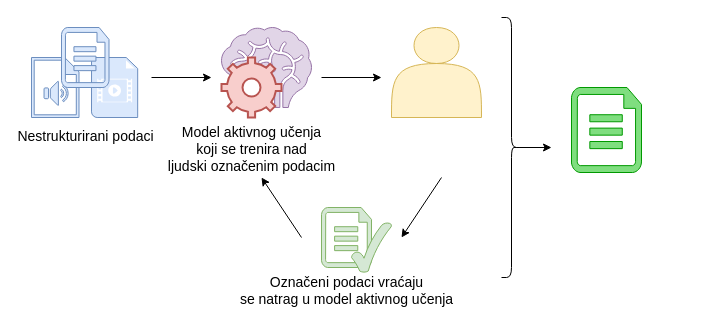
This 706x326 diagram has some shape labels left out. Here are the shapes that lost their labels. From the top down, the box of each, then its label:
(390, 26, 482, 118): Izlaz modela prosljeđuje se označivačima
(570, 86, 642, 172): Skup podatka pogodan za precizno treniranje modela
